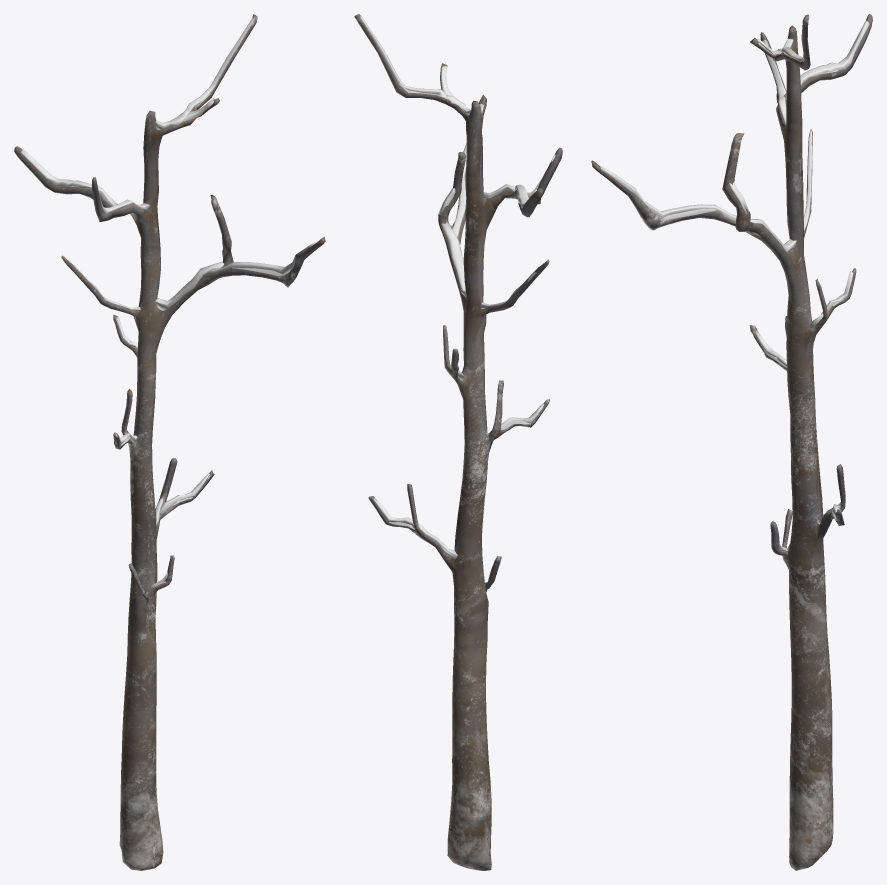
File: birch_snow.FBX
3 views of the same model, side by side, from view 1: azimuth 30°, elevation 25°; view 2: azimuth 150°, elevation 25°; view 3: azimuth 270°, elevation 25° (orthographic). The views are drawn at different scales.
Visible parts, largest first — view 1: birch tree, snow_birch (×2); view 2: birch tree, snow_birch (×3); view 3: birch tree, snow_birch (×2).
Boxes of the visible parts, left/top/right/bottom form: birch tree: left=14, top=14, right=325, bottom=870; snow_birch (×2): left=20, top=149, right=318, bottom=274; birch tree: left=354, top=14, right=562, bottom=870; snow_birch (×3): left=360, top=16, right=483, bottom=296; birch tree: left=591, top=14, right=872, bottom=870; snow_birch (×2): left=599, top=20, right=869, bottom=224.
Size of the model in its own units: 22.28 by 81.65 by 22.9.
